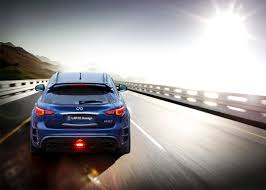car: (24, 69, 136, 157)
